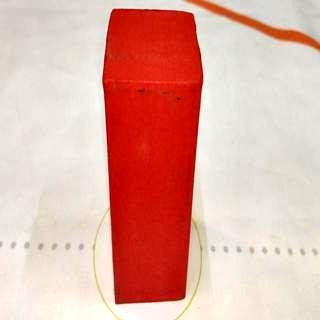redbox: (106, 12, 190, 302)
